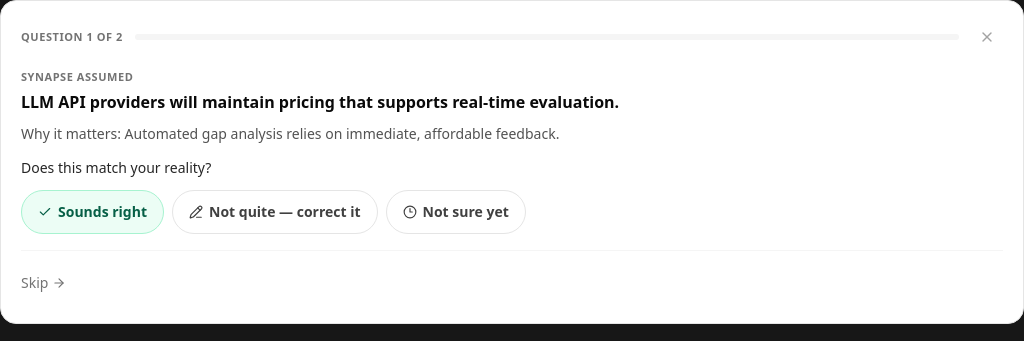
it: SharpenPlanFlow › walks one question at a time and records a confirm verdict
Expected: the text "Question 1 of 2" is shown, [21,29,123,45]
Expected: the text "LLM API providers will maintain pricing" is shown, [21,90,619,112]
Click the button "Sounds right".
click(92, 212)  # box [21,190,164,234]
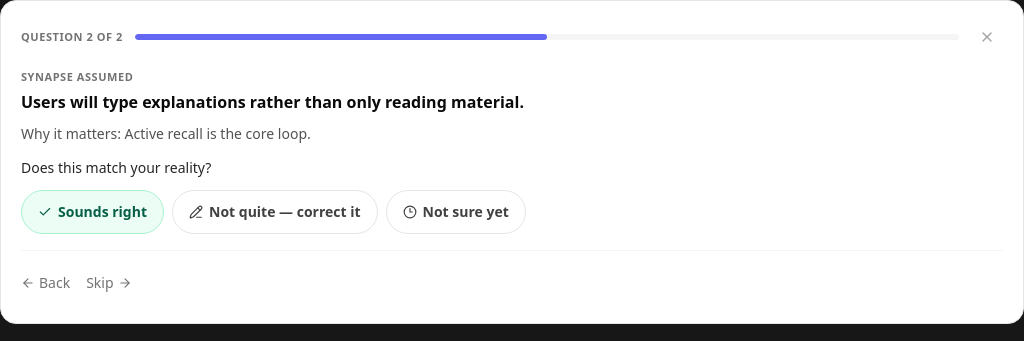
Expected: the text "Question 2 of 2" is shown, [21,29,123,45]
